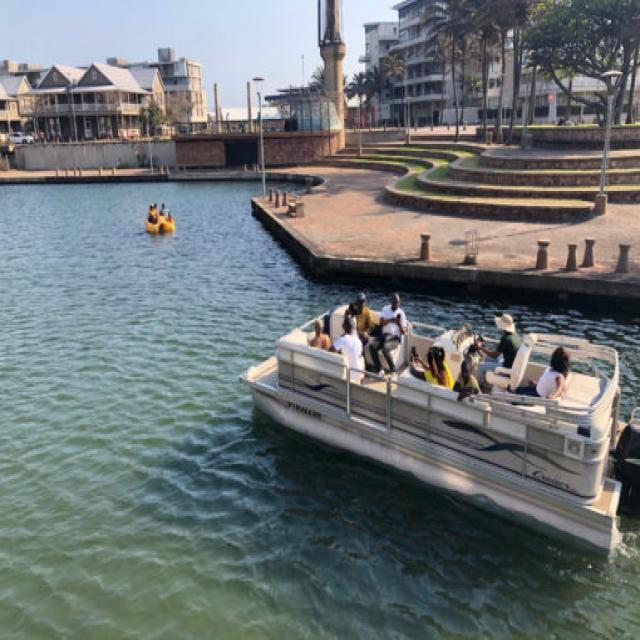passenger ship: (219, 292, 621, 555)
